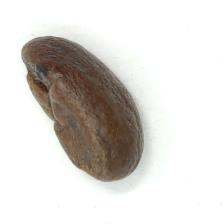NG: (23, 54, 80, 134)
